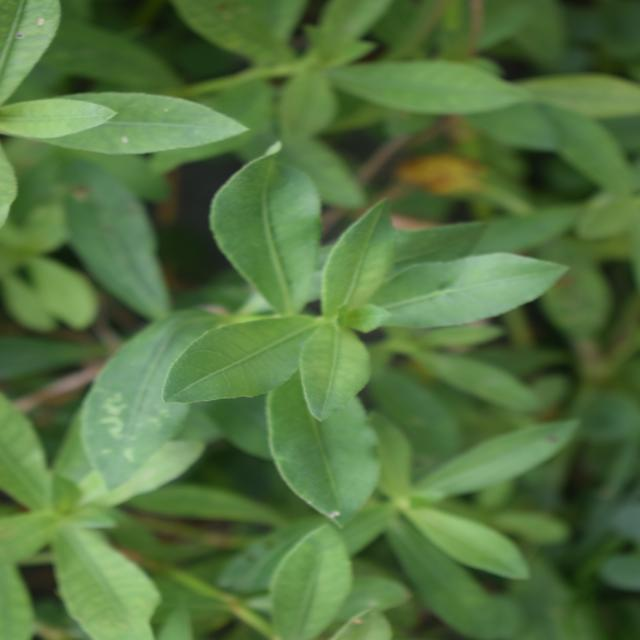Alligatorweed: (116, 133, 483, 535)
